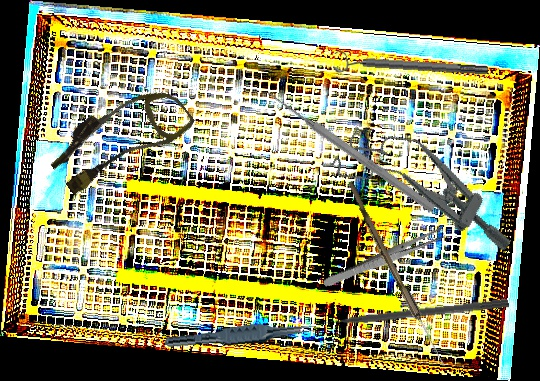Cannula: (42, 67, 197, 210)
Dressing Forceps: (321, 226, 447, 291)
Fixation Ring: (332, 48, 489, 84)
Pusher: (263, 86, 438, 215), (312, 296, 510, 329)
Speculum: (326, 108, 532, 265)
Surgical Spoon: (343, 180, 449, 368)
Tissue Forceps: (164, 315, 318, 357)
